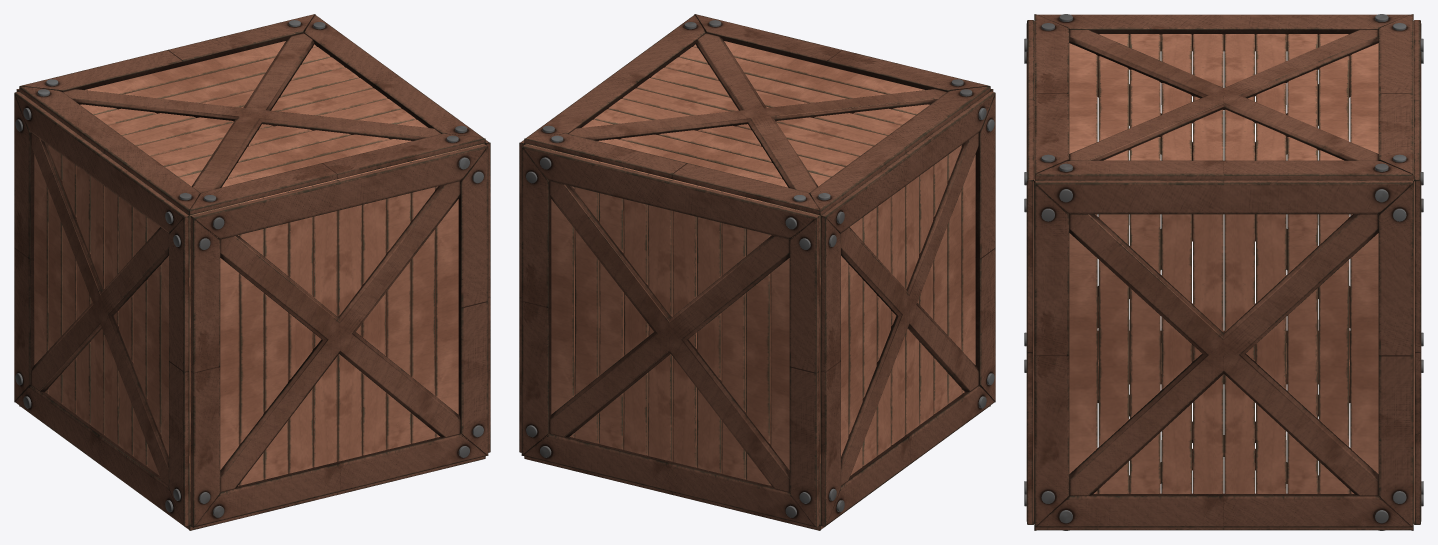
The model's file is SM_WoodCrateClosed.fbx.
The picture shows the model from 3 angles, left to right: view 1: azimuth 30°, elevation 25°; view 2: azimuth 150°, elevation 25°; view 3: azimuth 270°, elevation 25°; orthographic projection. The views are drawn at different scales.
Parts seen in each view (by area): view 1: BoxSides, BoxTops; view 2: BoxSides, BoxTops; view 3: BoxSides, BoxTops.
Part boxes in pixels (box(x1,y1,x2,y2)): BoxSides: box(14, 89, 490, 527); BoxTops: box(19, 14, 485, 530); BoxSides: box(519, 89, 995, 527); BoxTops: box(524, 14, 990, 530); BoxSides: box(1024, 20, 1423, 527); BoxTops: box(1034, 14, 1413, 530).
Bounding box in the file's own units: 86.78 × 86.78 × 86.78.
1 material, 1 textured.
